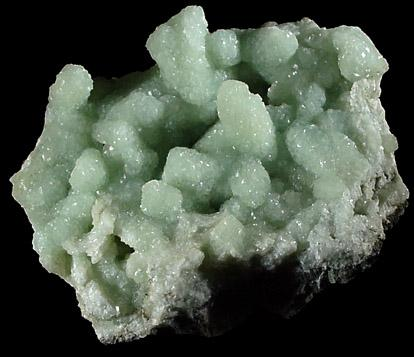prehnite: (9, 6, 409, 344)
